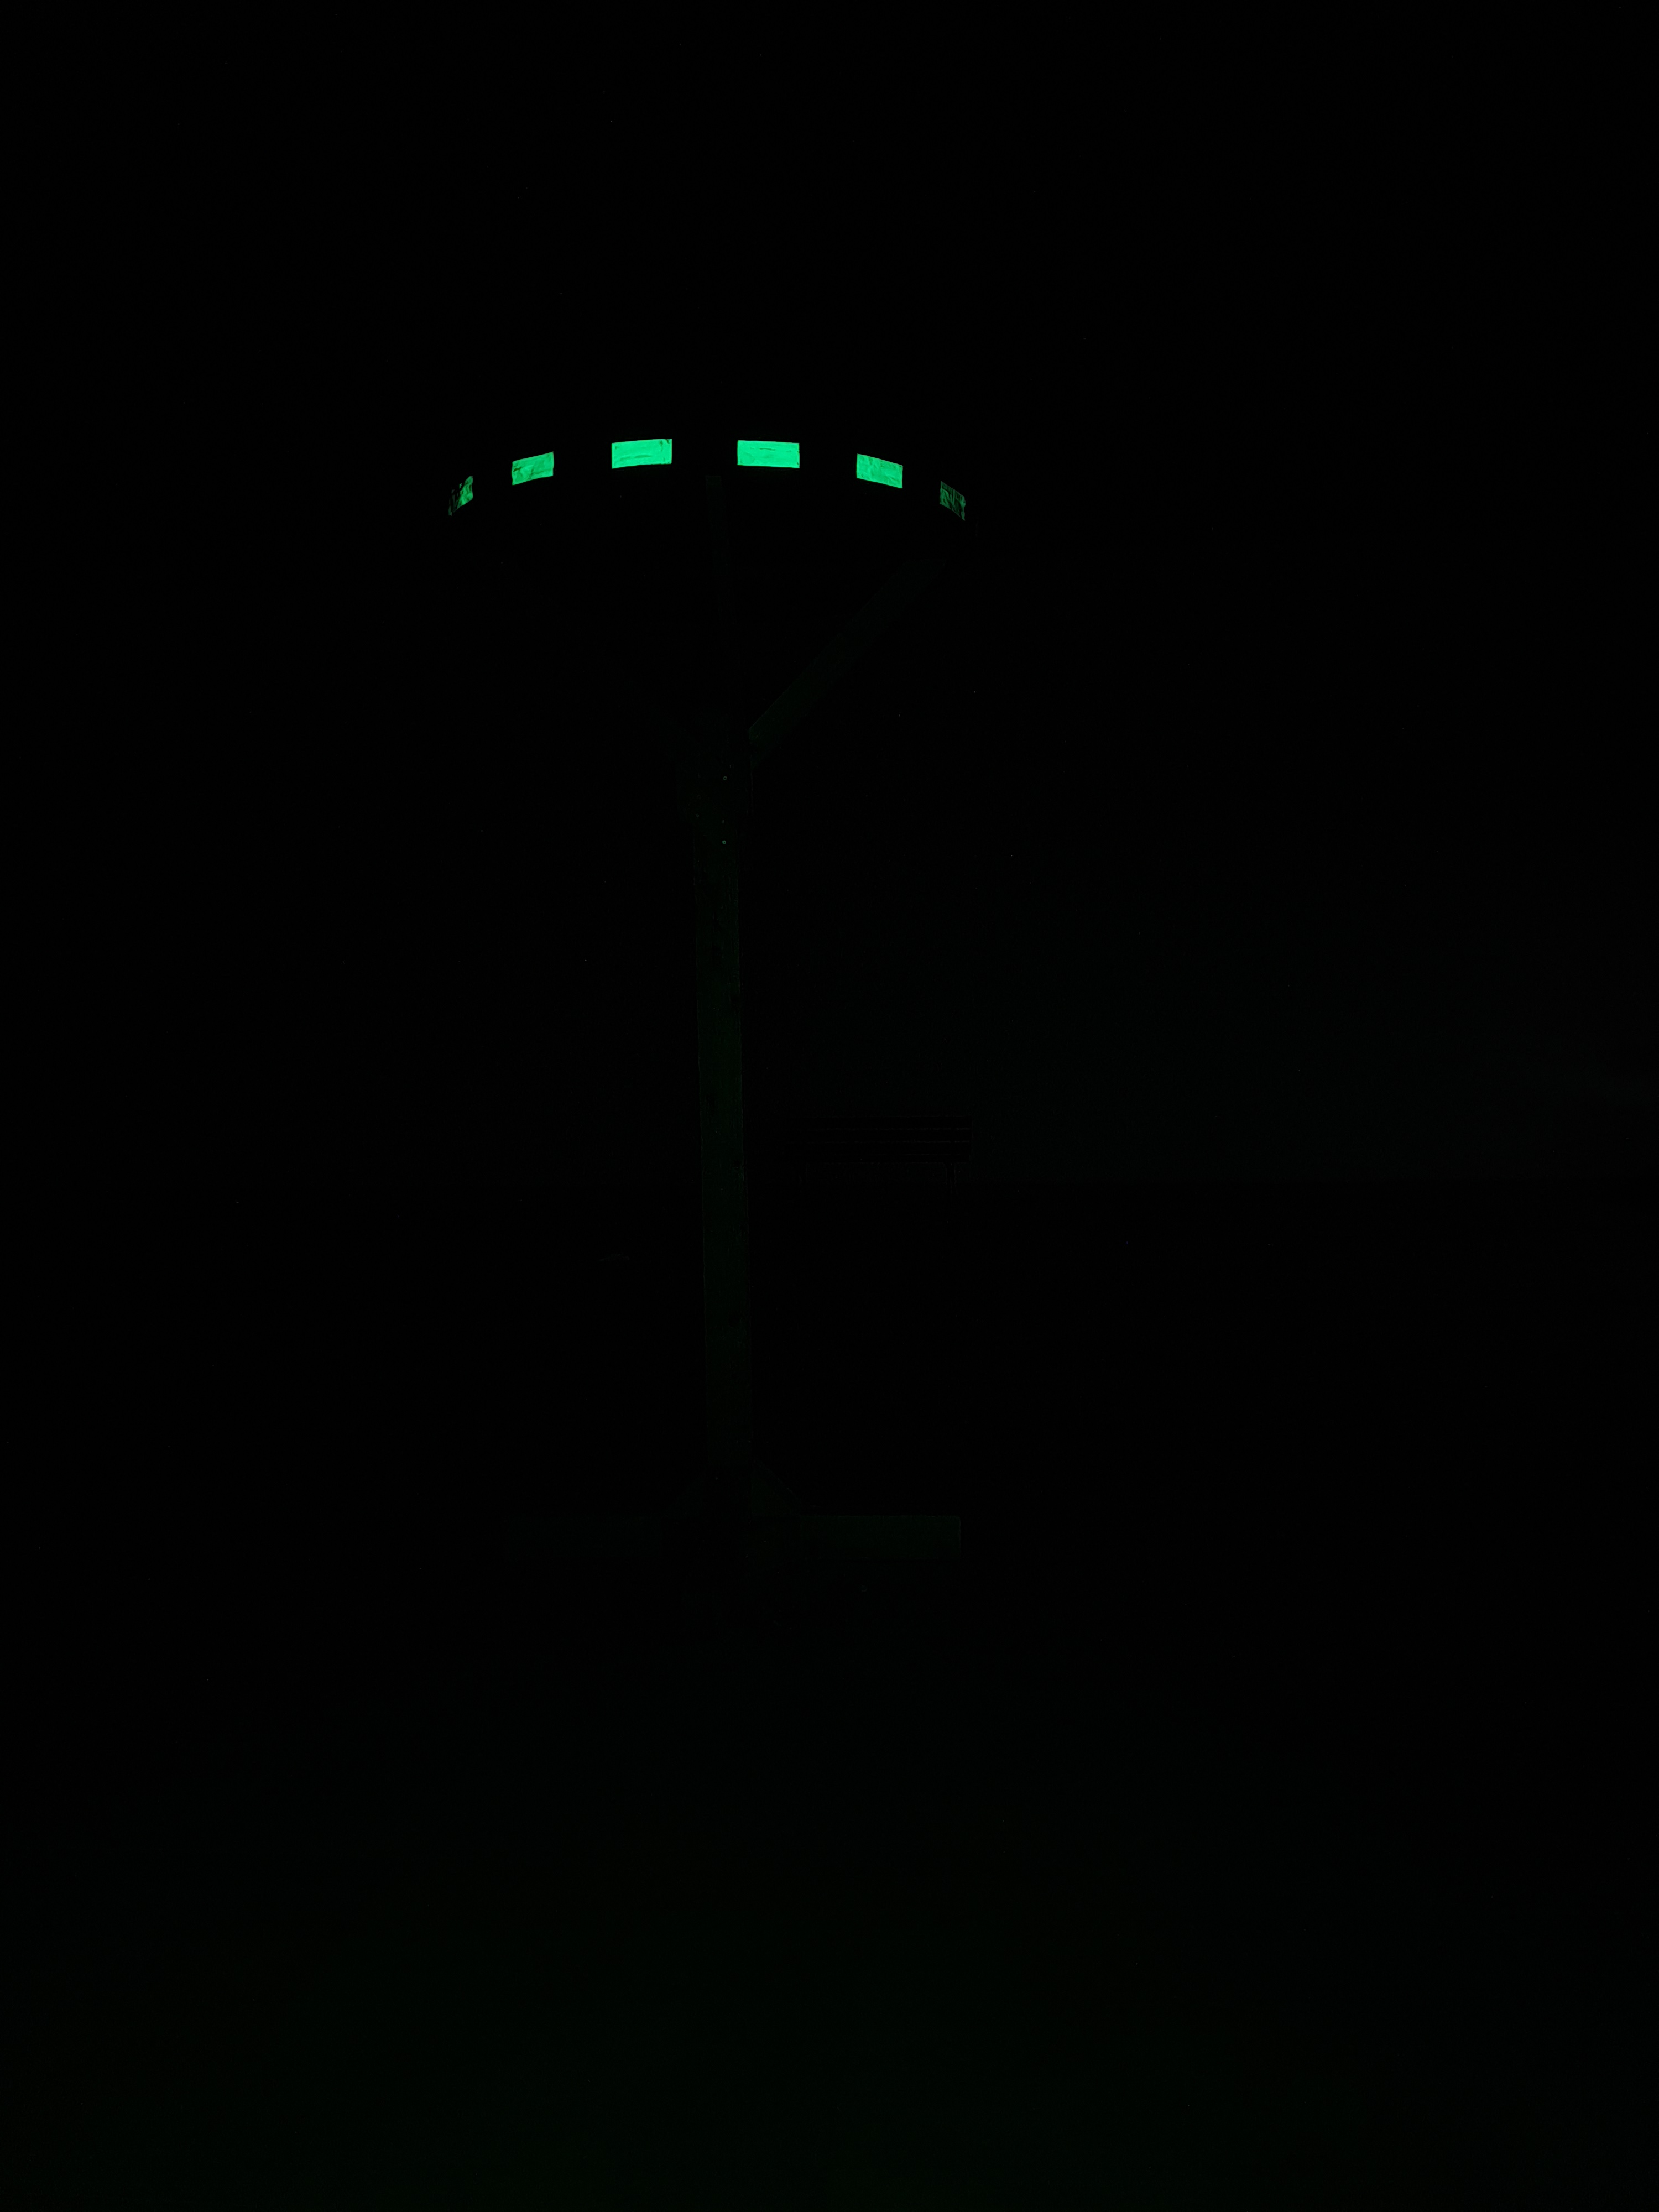hoop: (444, 427, 972, 531)
